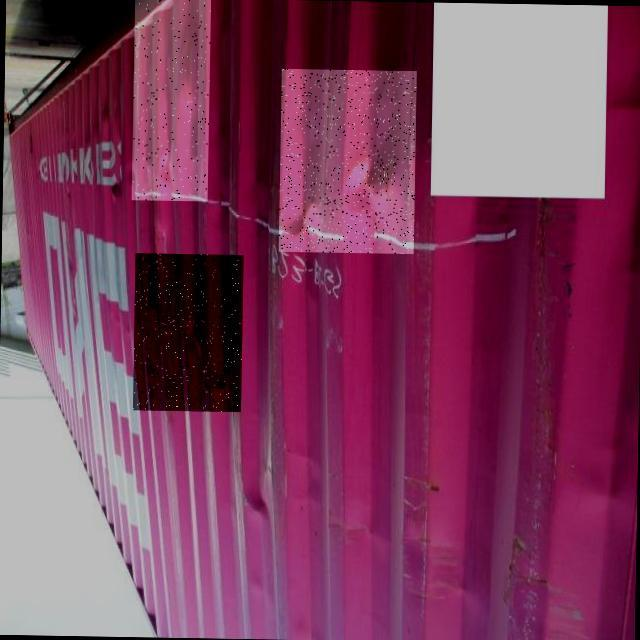Dent: (279, 69, 417, 254)
Minor-Dent: (133, 253, 244, 412), (131, 0, 211, 201)
